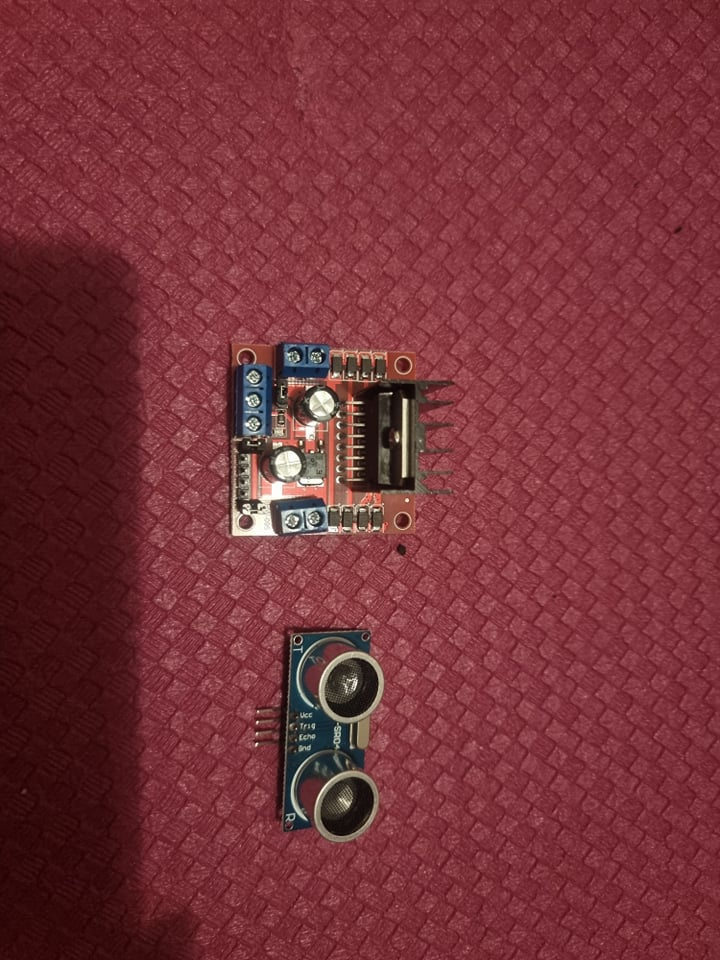MOTOR: (228, 339, 447, 546)
SENSOR: (281, 626, 381, 850)
